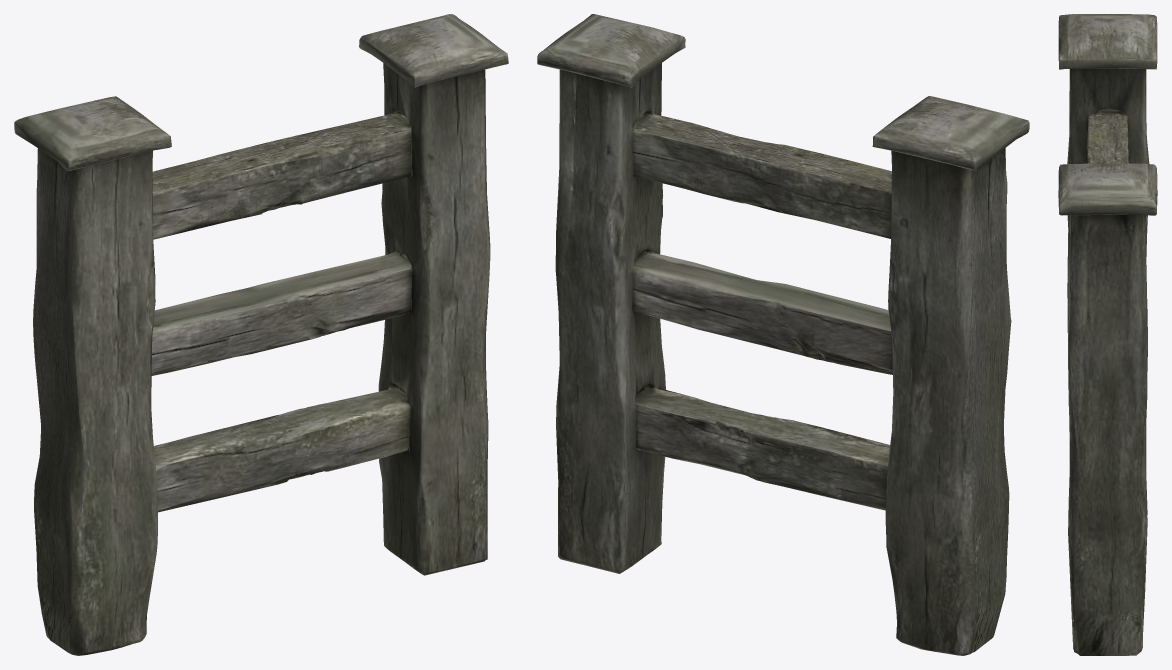
The model's file is yard-fence-end.glb.
3 views of the same model, side by side, from view 1: azimuth 30°, elevation 25°; view 2: azimuth 150°, elevation 25°; view 3: azimuth 270°, elevation 25° (orthographic). The views are drawn at different scales.
Parts seen in each view (by area): view 1: Mesh_0; view 2: Mesh_0; view 3: Mesh_0.
Boxes of the visible parts, box(x1,y1,x2,y2) form: Mesh_0: box(14, 14, 508, 655); Mesh_0: box(537, 14, 1029, 655); Mesh_0: box(1058, 14, 1157, 655).
Size of the model in its own units: 1.66 by 1.9 by 0.3648.
Materials: 1 (1 with a texture image).
